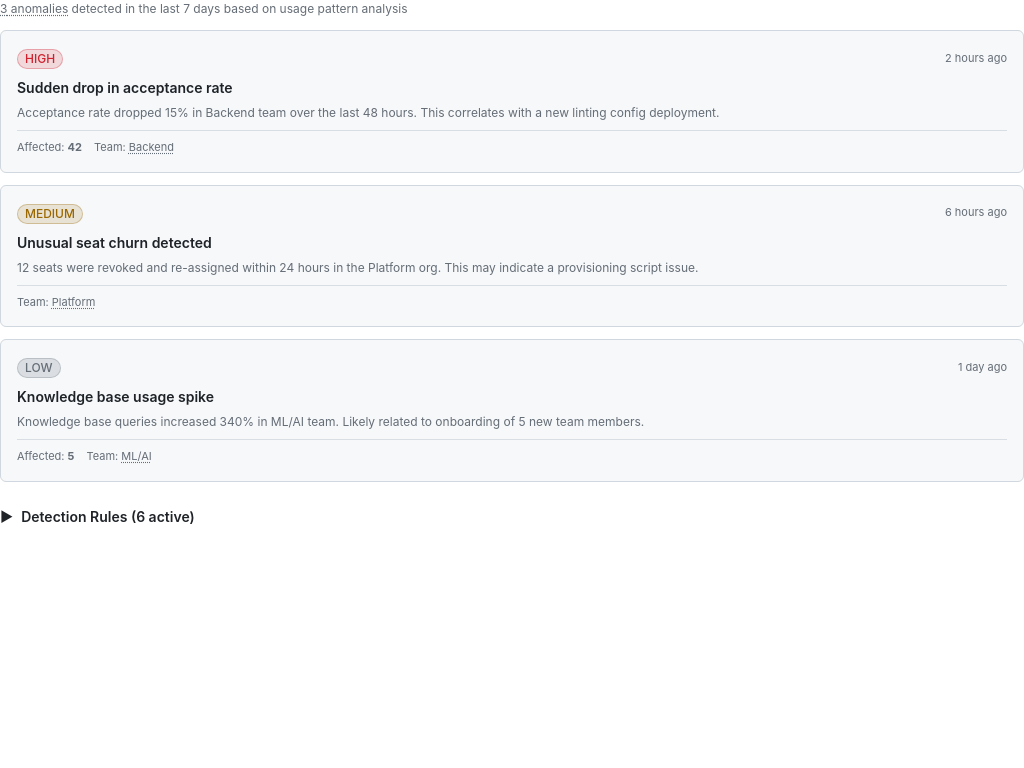
Test: AnomaliesPane clickable stats › opens team modal when clicking a team name
The image size is (1024, 768).
Click the button "Backend".
click(151, 147)  # box [129,140,174,154]
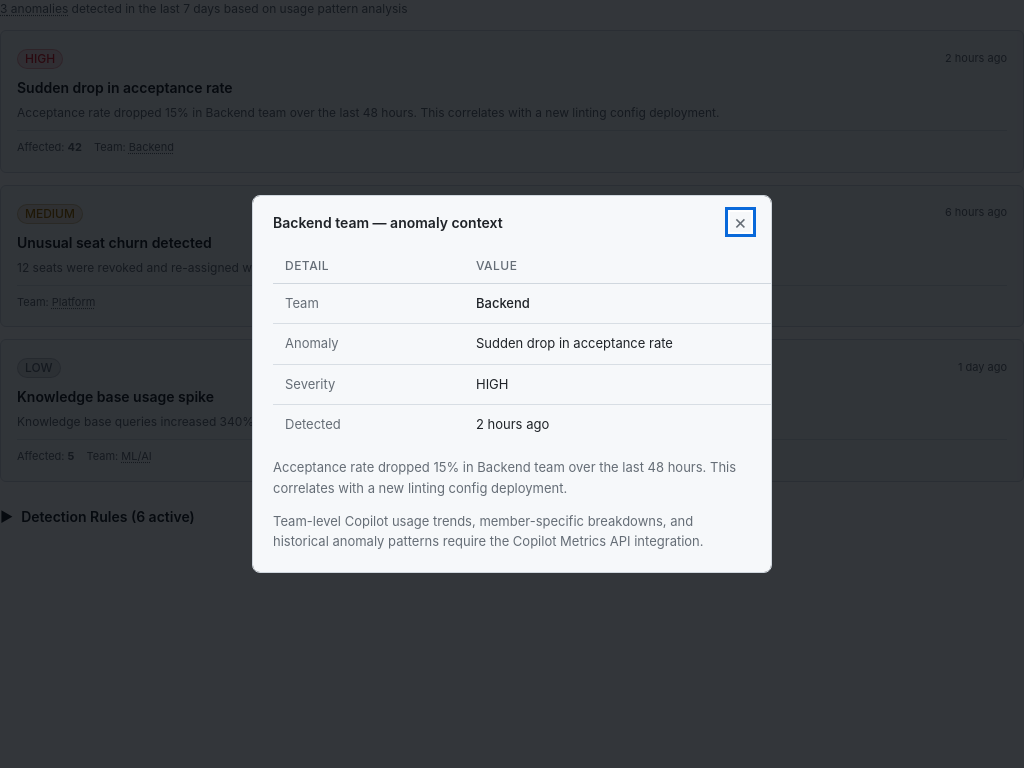
Check: the text "Backend team — anomaly context" is shown, box [273,212,503,233]
Check: the text "Copilot Metrics API integration" is shown, box [273,512,704,549]
